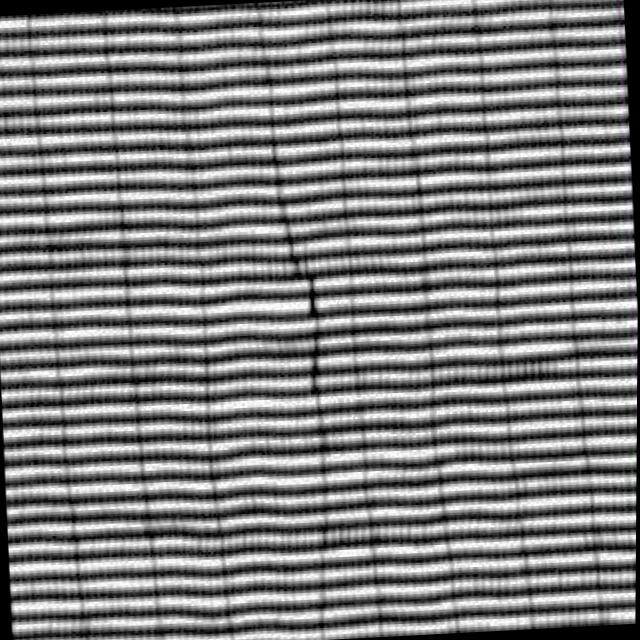Stitch: (229, 153, 382, 462)
